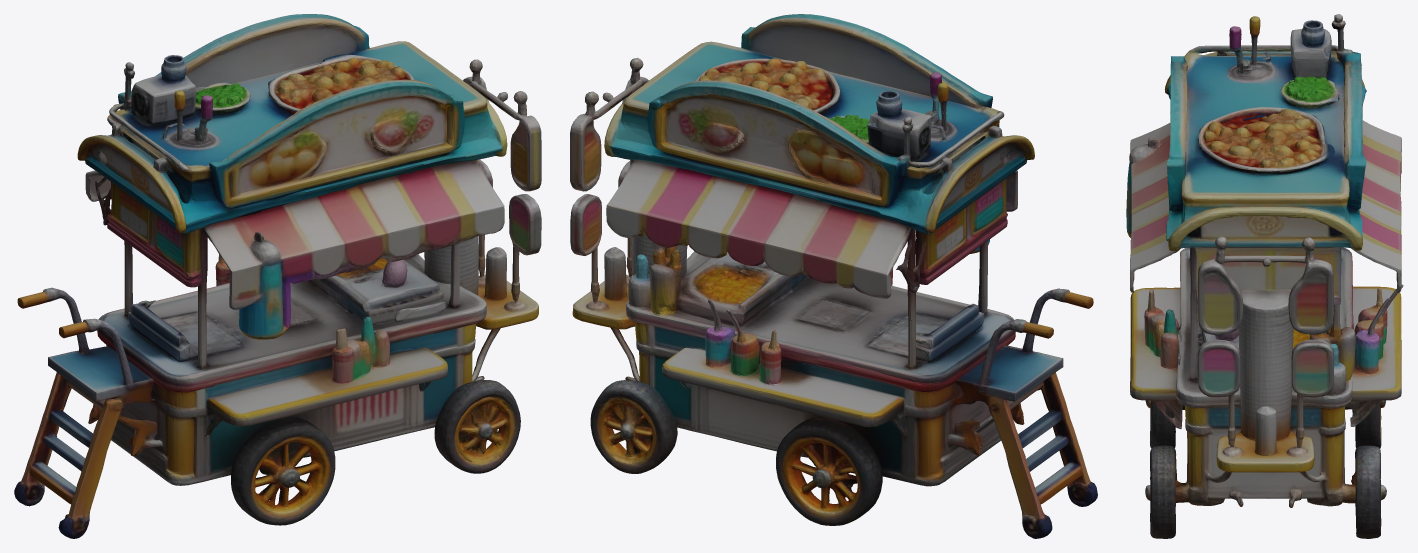
Rendered from carrito.glb.
The picture shows the model from 3 angles, left to right: view 1: azimuth 30°, elevation 25°; view 2: azimuth 150°, elevation 25°; view 3: azimuth 270°, elevation 25°; orthographic projection. The views are drawn at different scales.
Parts seen in each view (by area): view 1: geometry_0; view 2: geometry_0; view 3: geometry_0.
Boxes of the visible parts, x1,y1,x2,y2 form: geometry_0: (14, 14, 541, 538); geometry_0: (570, 14, 1097, 538); geometry_0: (1126, 14, 1403, 538).
Size of the model in its own units: 2.17 by 1.79 by 1.11.
Materials: 1 (1 with a texture image).
